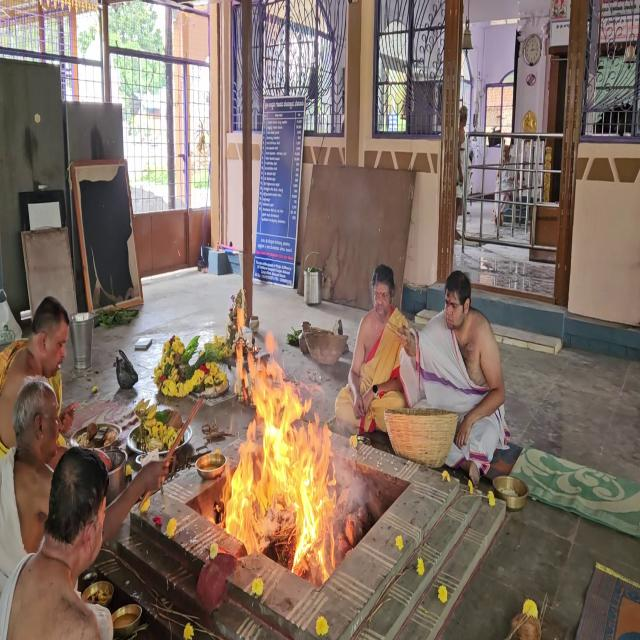fire: (215, 293, 361, 606)
